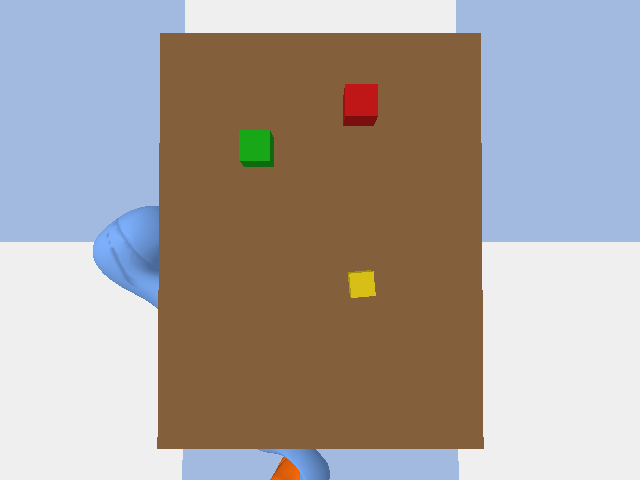green_obj: (239, 130, 273, 166)
red_obj: (343, 84, 377, 125)
yellow_obj: (348, 270, 375, 297)
